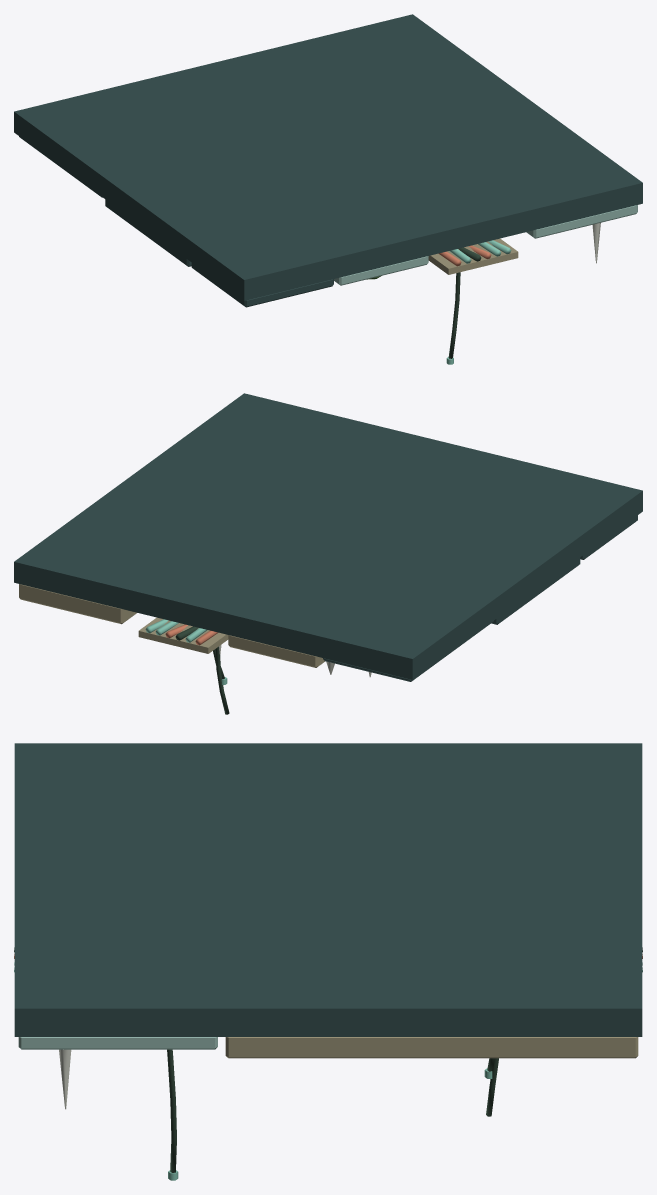
Rendered from ceil_dr_cables.glb.
The picture shows the model from 3 angles, top to bottom: view 1: azimuth 30°, elevation 25°; view 2: azimuth 150°, elevation 25°; view 3: azimuth 270°, elevation 25°; orthographic projection. The views are drawn at different scales.
Parts seen in each view (by area): view 1: ceil_dr_cables; view 2: ceil_dr_cables; view 3: ceil_dr_cables.
Boxes of the visible parts, left/top/right/bottom form: ceil_dr_cables: left=14, top=14, right=642, bottom=364; ceil_dr_cables: left=14, top=393, right=642, bottom=714; ceil_dr_cables: left=14, top=743, right=642, bottom=1180.
Bounding box in the file's own units: 4 × 1.82 × 4.01.
